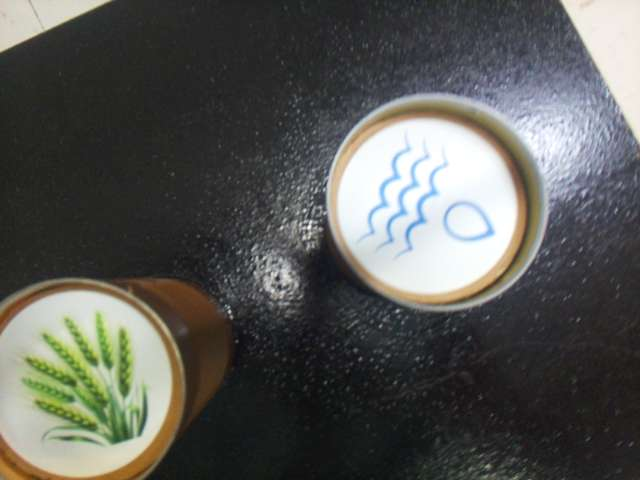water_barrel: (344, 117, 503, 273)
wheat_barrel: (6, 307, 165, 457)
